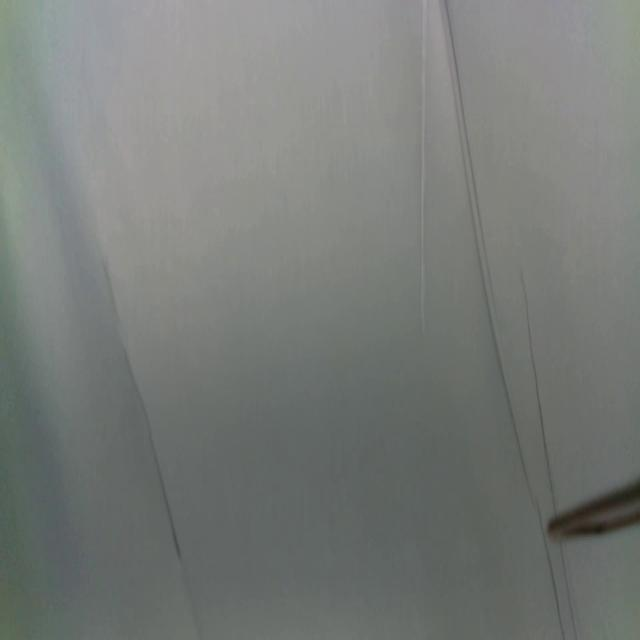crease: (444, 0, 529, 504), (102, 247, 184, 563), (522, 278, 558, 512), (537, 507, 564, 639), (420, 0, 429, 331), (561, 544, 578, 637)
